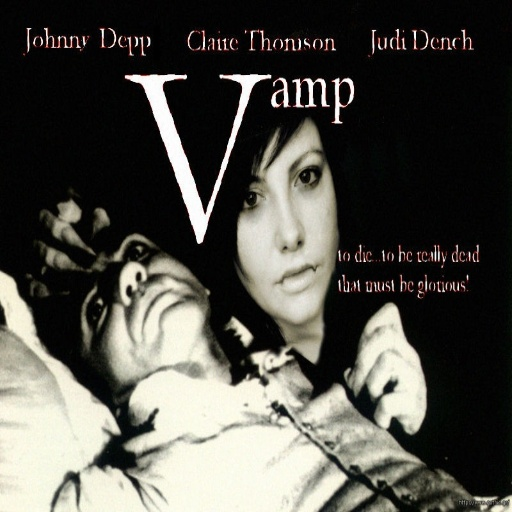hand: (343, 300, 433, 448), (24, 197, 107, 300)
